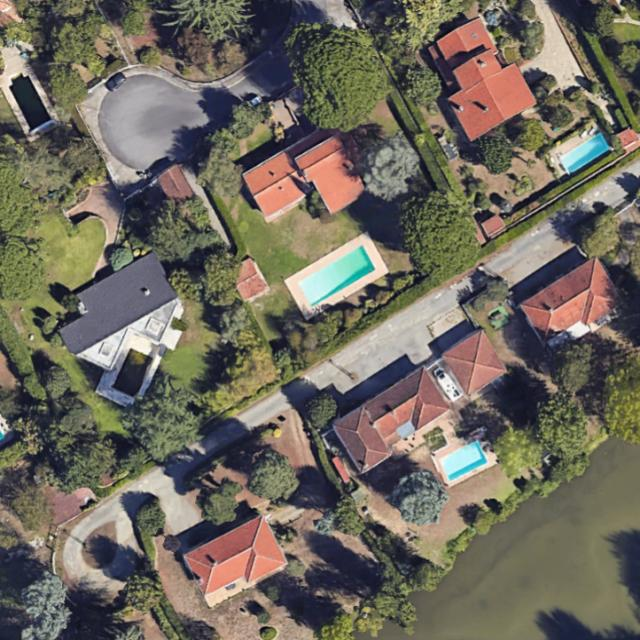maison: (329, 325, 513, 476), (44, 249, 194, 385), (237, 117, 381, 247), (415, 12, 540, 143), (518, 256, 630, 359), (181, 512, 290, 609)
